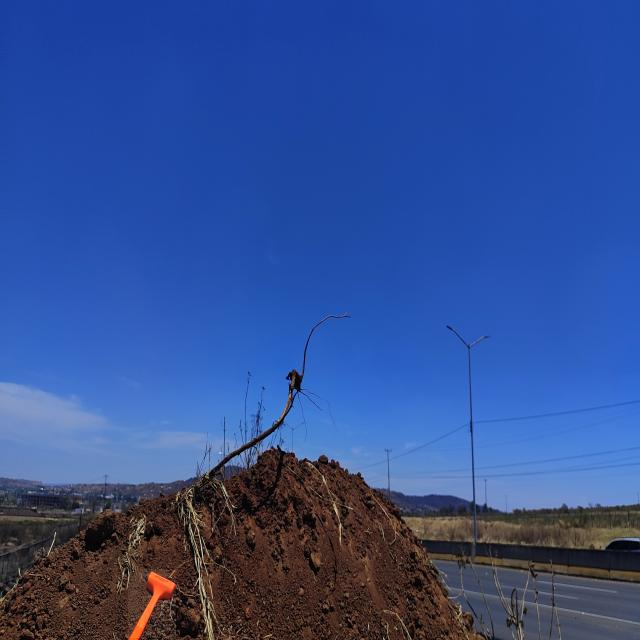Orange_hammer: (128, 569, 176, 638)
